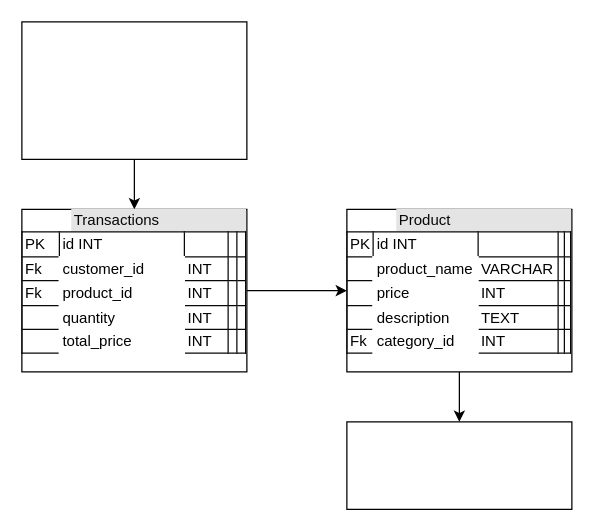
Image size: 594x531. Some labels were removed from this diagram. The shapes that lost their labels are listed below. From the top down, each one's box as (x1, y1, x2, y2) in pixels, then its label:
(21, 21, 247, 159): Customer PK id INT name VARCHAR phone VARCHAR address TEXT
(346, 421, 572, 509): Category PK id INT category_name VARCHAR
